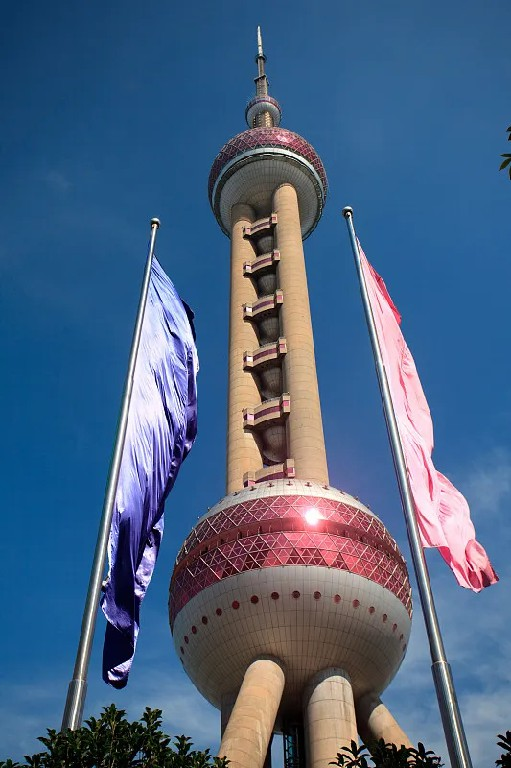Oriental: (169, 26, 414, 768)
